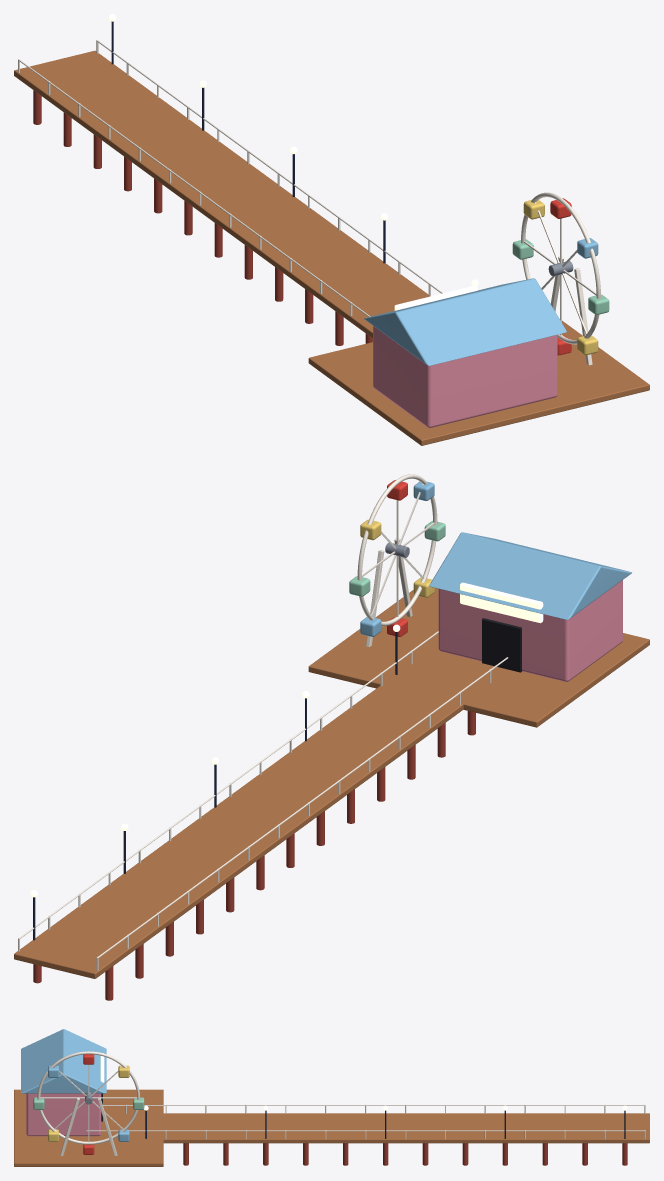
File: pier.glb
3 views of the same model, one above another, from view 1: azimuth 30°, elevation 25°; view 2: azimuth 150°, elevation 25°; view 3: azimuth 270°, elevation 25° (orthographic). The views are drawn at different scales.
Parts seen in each view (by area): view 1: pier, wheel, legs; view 2: pier, wheel, legs; view 3: pier, wheel, legs.
Part boxes in pixels (left/top/right/bottom): pier: left=14, top=14, right=649, bottom=445; wheel: left=512, top=192, right=609, bottom=355; legs: left=550, top=256, right=592, bottom=365; pier: left=14, top=532, right=649, bottom=1000; wheel: left=349, top=474, right=445, bottom=636; legs: left=366, top=538, right=412, bottom=646; pier: left=14, top=1029, right=649, bottom=1166; wheel: left=33, top=1051, right=144, bottom=1154; legs: left=60, top=1097, right=117, bottom=1155.
Size of the model in its own units: 14 by 11.32 by 51.
1 material, 1 textured.
